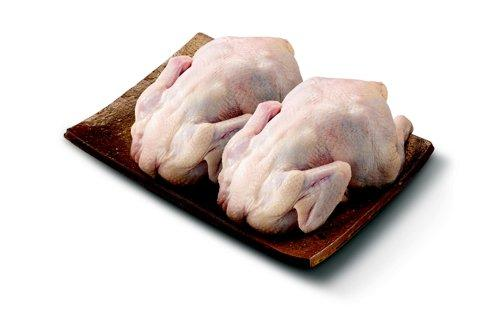chicken: (175, 40, 323, 119), (102, 19, 233, 91)
